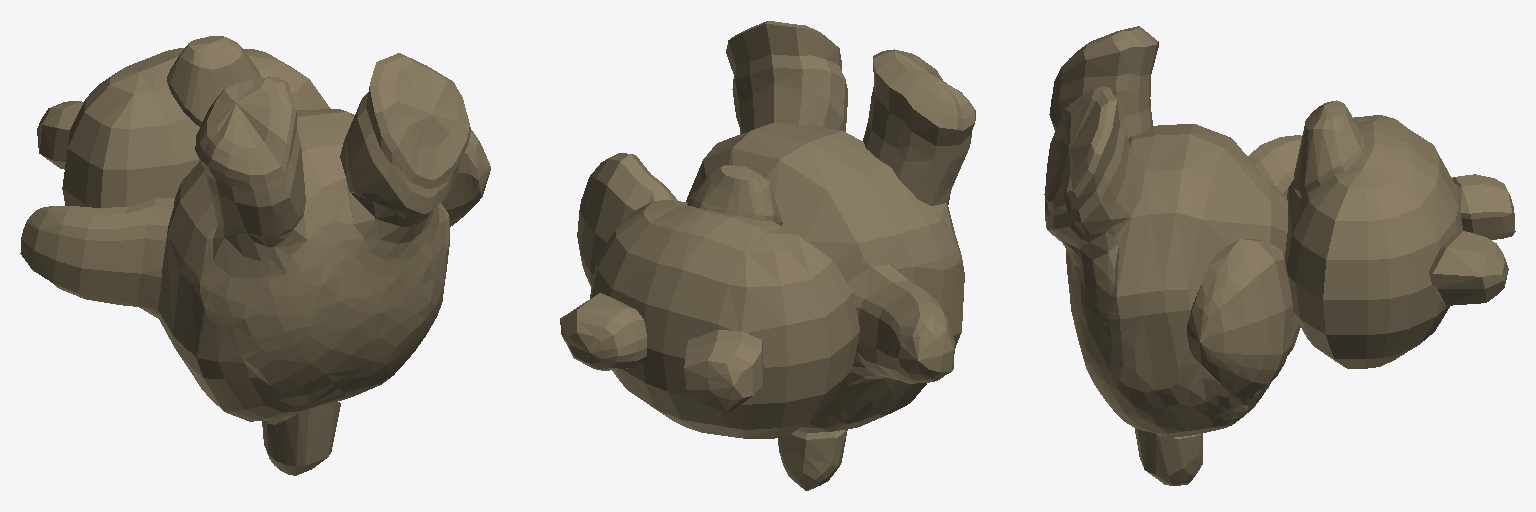
robot.urdf — teddy:
<?xml version="1.0"?>
<robot name="teddy">
  <link name="base_link">
    <visual>
      <origin xyz="0 0 0" rpy="0 0 0" />
      <geometry>
        <mesh filename="teddy-normalized.obj"/>      
      </geometry>
      <material name="tan">
        <color rgba="0.55 0.5 0.4 1"/>
      </material>
    </visual>
    <collision>
      <origin xyz="0 0 0" rpy="0 0 0" />
      <geometry>
        <mesh filename="teddy-normalized.obj"/>
      </geometry>
    </collision>
    <inertial>
      <mass value="0.2" />
      <inertia ixx="0.02" ixy="0.0" ixz="0.0" iyy="0.1" iyz="0.0" izz="0.1"/>
    </inertial>
  </link>
</robot>

--- Render facts (derived) ---
The picture shows the robot from 3 angles, left to right: view 1: azimuth 30°, elevation 25°; view 2: azimuth 150°, elevation 25°; view 3: azimuth 270°, elevation 25°; orthographic projection.
Robot: teddy — 1 links, 0 joints (none); root link base_link; default pose: all joints at 0.
Links seen in each view (by area): view 1: base_link; view 2: base_link; view 3: base_link.
Link boxes in pixels (left/top/right/bottom): base_link: left=20, top=36, right=490, bottom=475; base_link: left=560, top=21, right=975, bottom=490; base_link: left=1044, top=26, right=1515, bottom=485.
Bounding box of the posed robot: 1 × 1 × 1 m (x, y, z).
Meshes: 1 distinct files referenced, 1 mesh visuals loaded (1 OBJ).
